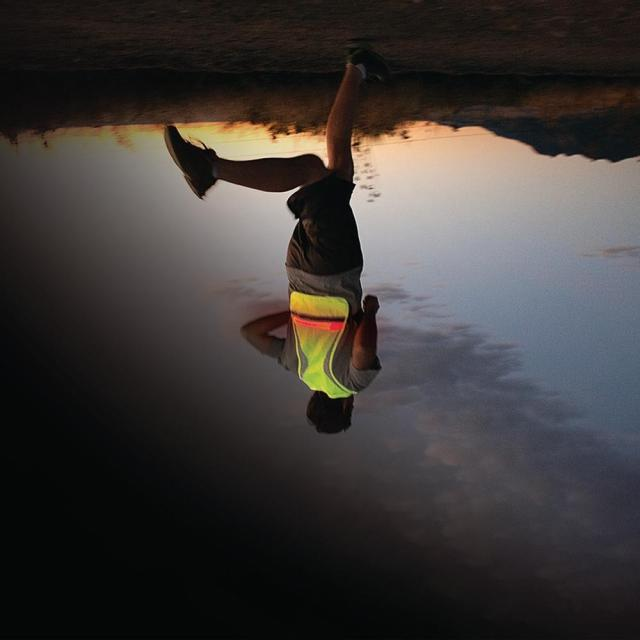Boots: (166, 128, 218, 206), (348, 42, 394, 82)
Vest: (290, 290, 351, 398)
